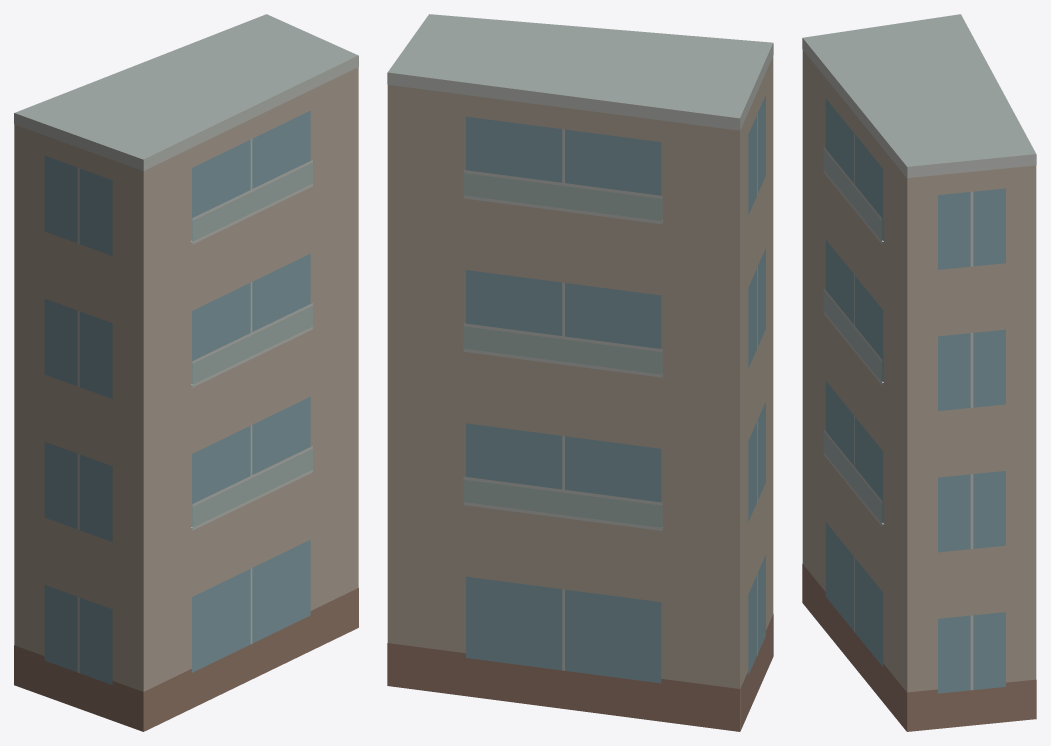
Rendered from survey-upis-33029009.glb.
The picture shows the model from 3 angles, left to right: view 1: azimuth 30°, elevation 25°; view 2: azimuth 150°, elevation 25°; view 3: azimuth 270°, elevation 25°; orthographic projection. The views are drawn at different scales.
Visible parts, largest first — view 1: survey-upis-33029009.tmp; view 2: survey-upis-33029009.tmp; view 3: survey-upis-33029009.tmp.
Part boxes in pixels (x1,y1,x2,y2): survey-upis-33029009.tmp: (14, 14, 358, 731); survey-upis-33029009.tmp: (387, 14, 773, 731); survey-upis-33029009.tmp: (802, 14, 1036, 731).
Size of the model in its own units: 7.09 by 12.2 by 4.59.
